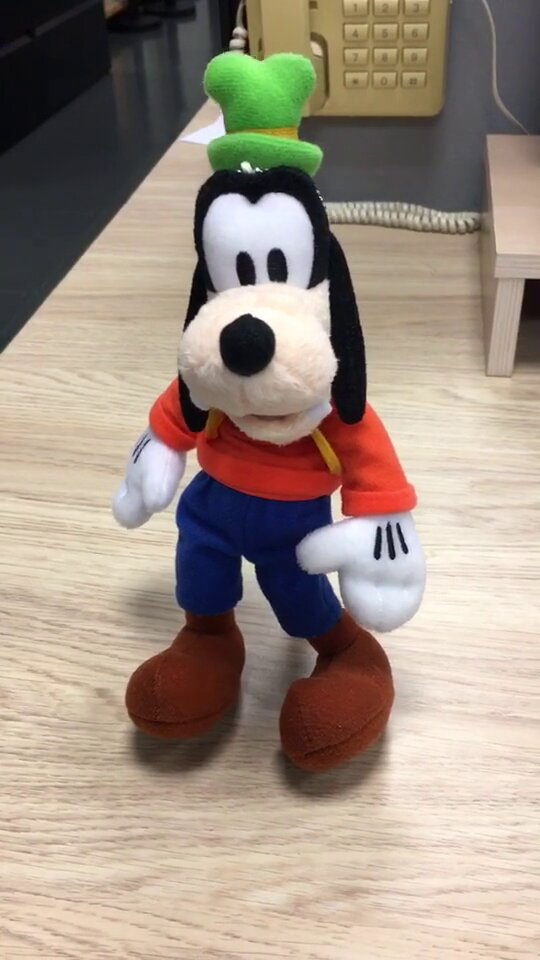goofy: (110, 48, 431, 772)
